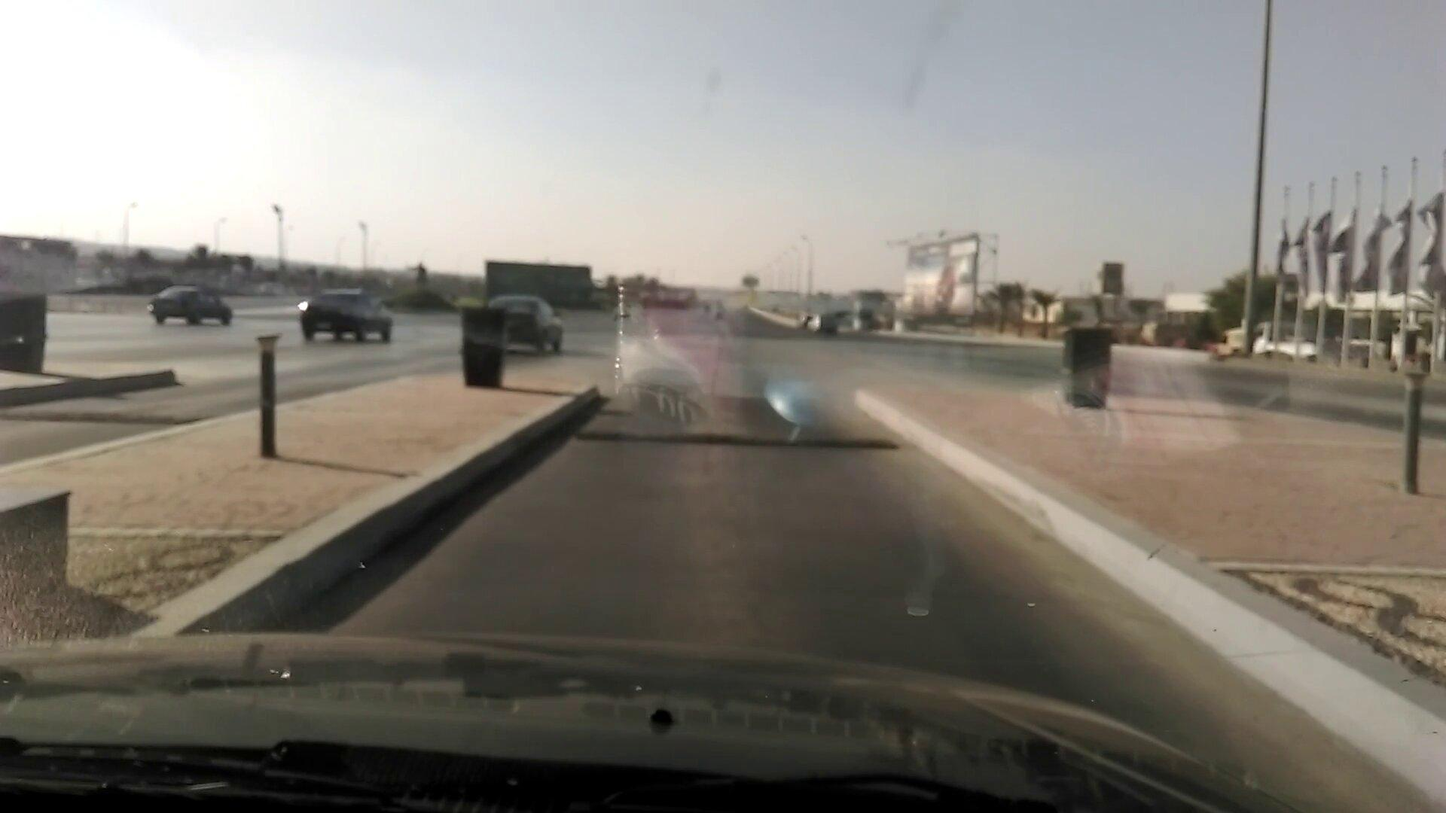Bump: (587, 431, 894, 457)
